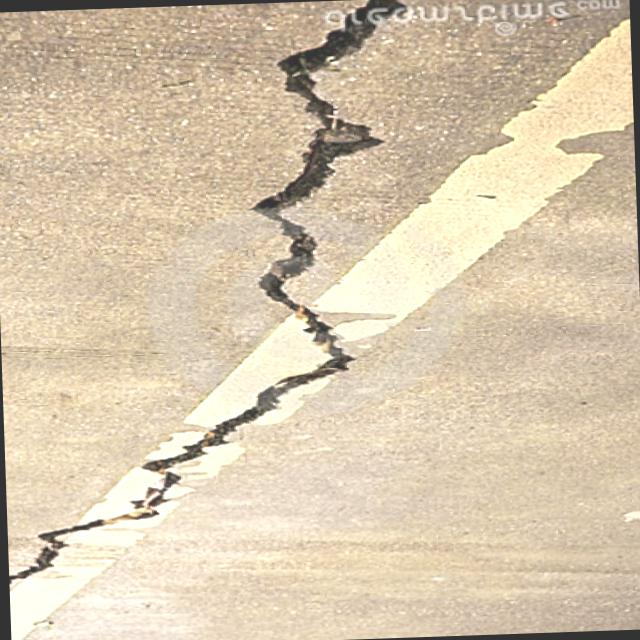crack: (0, 0, 431, 582)
